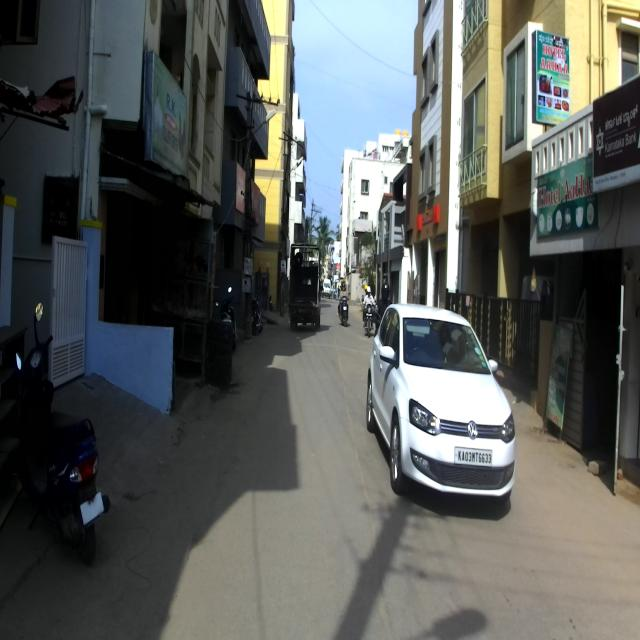auto ahead at: (284, 245, 324, 333)
car ahead at: (366, 301, 520, 518)
motorcycle ahead at: (9, 320, 110, 566)
